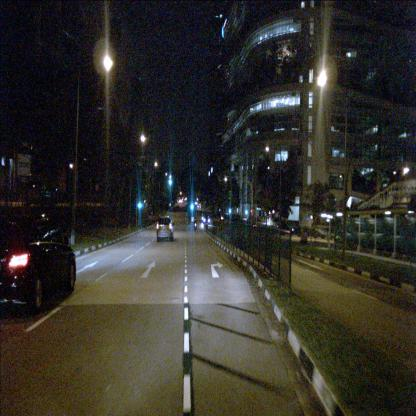vehicle-car: (0, 213, 76, 313), (156, 216, 173, 242), (278, 221, 297, 236), (212, 212, 228, 228), (302, 226, 320, 238), (203, 215, 210, 224), (201, 213, 207, 222)
vehicle-motorcycle: (194, 216, 198, 231)
